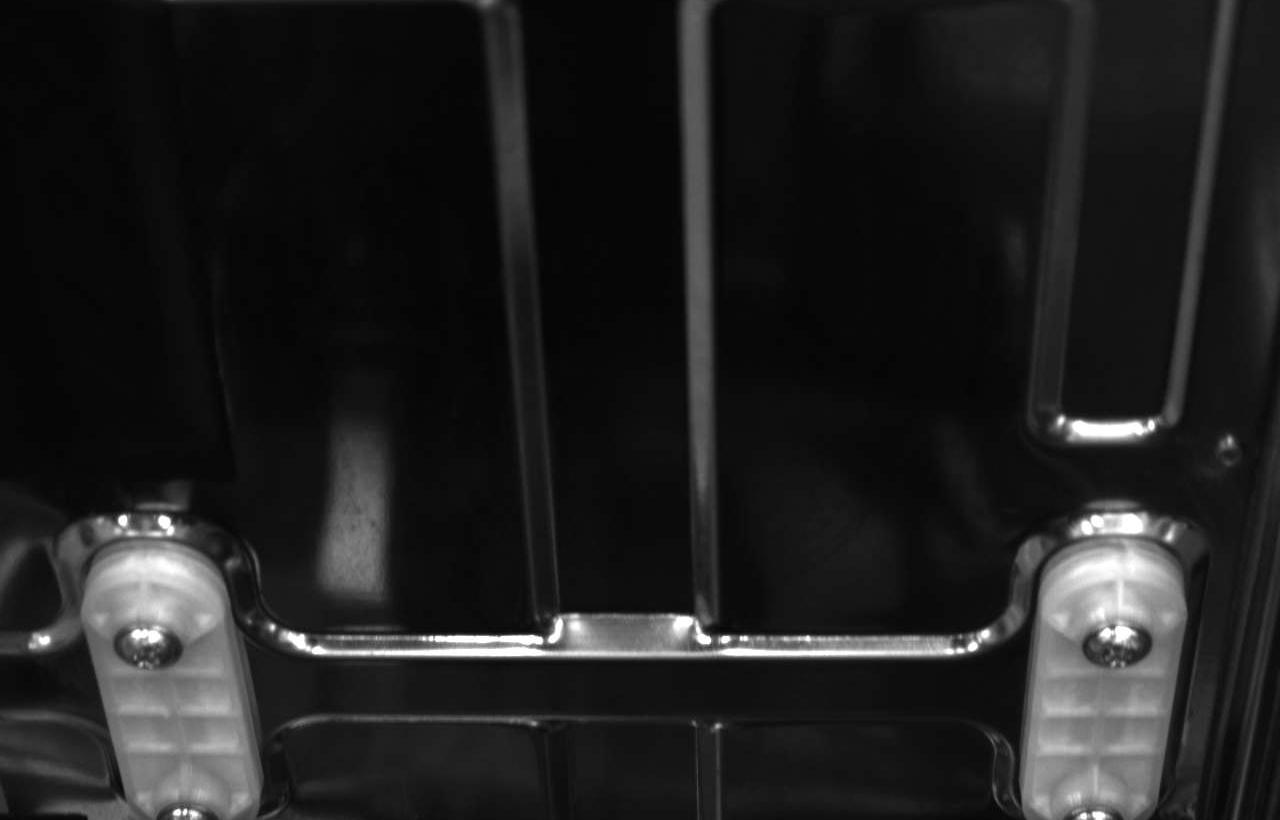vida-ok: (116, 619, 187, 687), (1081, 612, 1149, 679), (157, 793, 222, 820), (1058, 796, 1124, 820)
